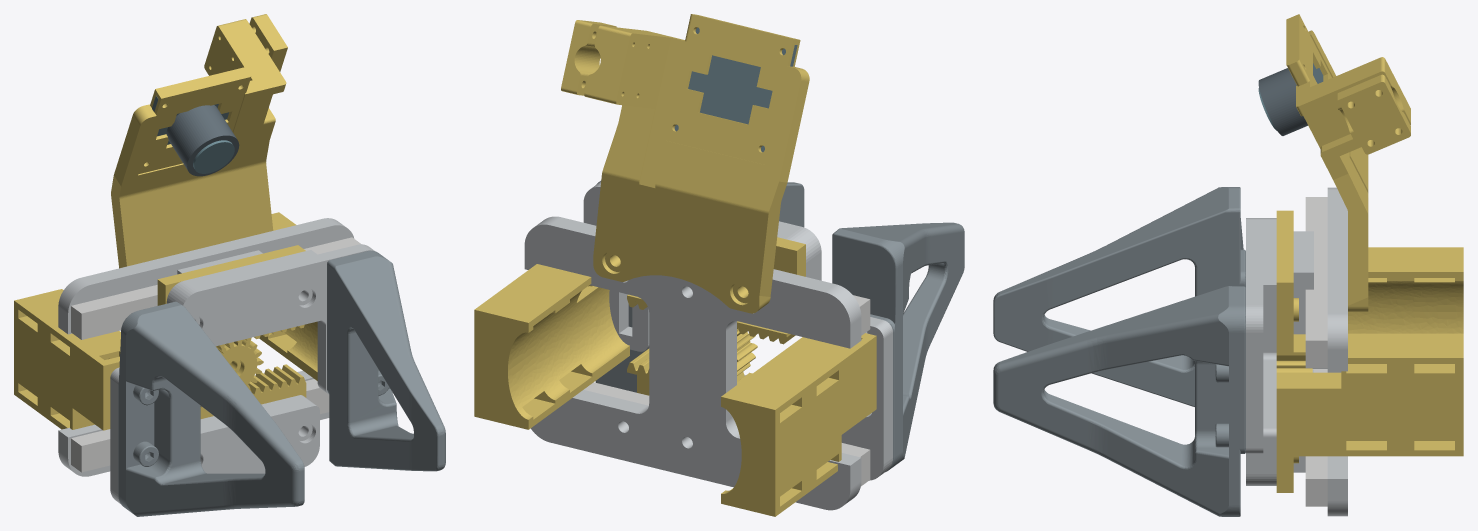
File: yam_umi_assembled_with_tips.glb
3 renders of one model, left to right at view 1: azimuth 30°, elevation 25°; view 2: azimuth 150°, elevation 25°; view 3: azimuth 270°, elevation 25°, orthographic. The views are drawn at different scales.
Parts seen in each view (by area): view 1: official_yam_tip_2, fisheye_camera_mount, official_yam_tip_1, finger_bracket_1, finger_holder_2, main_plate, finger_bracket_2, rail_2, camera_lens_schematic, finger_holder_1, rail_1, adapter_2 (+3 smaller); view 2: fisheye_camera_mount, main_plate, finger_holder_2, finger_holder_1, official_yam_tip_2, camera_pcb_schematic, finger_bracket_2, finger_bracket_1, official_yam_tip_1, adapter_1, rail_1, adapter_2 (+1 smaller); view 3: official_yam_tip_1, finger_holder_1, official_yam_tip_2, fisheye_camera_mount, finger_holder_2, finger_bracket_1, main_plate, rail_2, adapter_1, finger_bracket_2, camera_lens_schematic, carriage_2 (+2 smaller).
Boxes of the visible parts, x1,y1,x2,y2 form: official_yam_tip_2: [118, 301, 304, 516]; fisheye_camera_mount: [111, 14, 287, 268]; official_yam_tip_1: [327, 250, 445, 471]; finger_bracket_1: [166, 244, 374, 394]; finger_holder_2: [14, 289, 120, 430]; main_plate: [58, 218, 354, 476]; finger_bracket_2: [110, 367, 319, 503]; rail_2: [71, 237, 361, 339]; camera_lens_schematic: [166, 105, 239, 176]; finger_holder_1: [259, 212, 317, 380]; rail_1: [71, 379, 329, 472]; adapter_2: [200, 364, 306, 418]; fisheye_camera_mount: [561, 14, 809, 313]; main_plate: [524, 216, 861, 510]; finger_holder_2: [721, 333, 876, 516]; finger_holder_1: [474, 264, 629, 429]; official_yam_tip_2: [832, 222, 964, 471]; camera_pcb_schematic: [674, 27, 797, 152]; finger_bracket_2: [744, 317, 892, 480]; finger_bracket_1: [583, 182, 821, 351]; official_yam_tip_1: [595, 180, 804, 392]; adapter_1: [627, 237, 805, 344]; rail_1: [584, 382, 870, 486]; adapter_2: [627, 348, 752, 395]; official_yam_tip_1: [993, 286, 1245, 516]; finger_holder_1: [1276, 333, 1463, 456]; official_yam_tip_2: [993, 187, 1245, 406]; fisheye_camera_mount: [1286, 14, 1410, 311]; finger_holder_2: [1348, 247, 1463, 333]; finger_bracket_1: [1246, 218, 1276, 453]; main_plate: [1312, 187, 1347, 516]; rail_2: [1305, 197, 1327, 368]; adapter_1: [1276, 210, 1305, 360]; finger_bracket_2: [1246, 352, 1276, 485]; camera_lens_schematic: [1258, 68, 1307, 135]; carriage_2: [1293, 231, 1313, 334].
Bounding box in the file's own units: 0.102 × 0.1354 × 0.1384.
